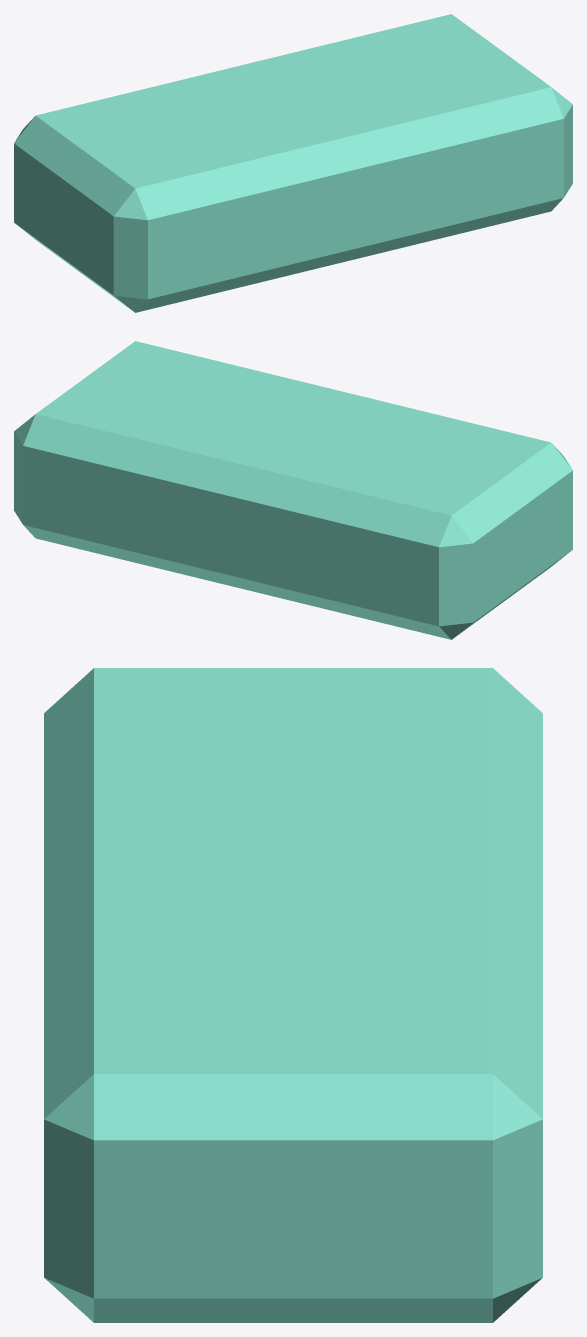
3 renders of one model, top to bottom at view 1: azimuth 30°, elevation 25°; view 2: azimuth 150°, elevation 25°; view 3: azimuth 270°, elevation 25°, orthographic. The views are drawn at different scales.
Visible parts, largest first — view 1: Step; view 2: Step; view 3: Step.
Part boxes in pixels (bbox=[...]): Step: bbox=[14, 14, 572, 312]; Step: bbox=[14, 341, 572, 639]; Step: bbox=[44, 668, 542, 1322].
Size of the model in its own units: 0.85 by 0.22 by 0.4.
Materials: 1 (1 with a texture image).
